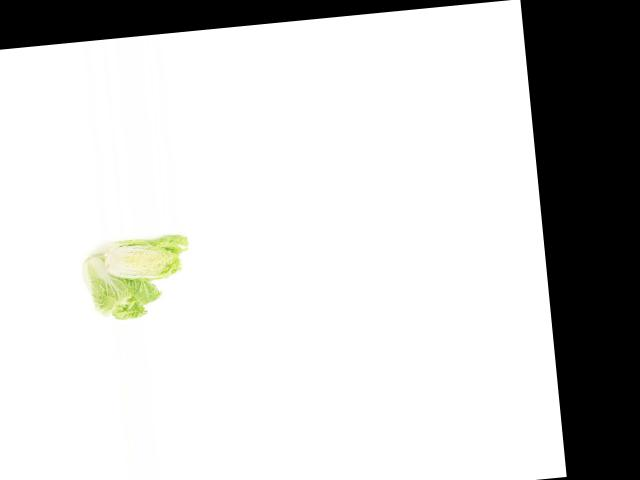lettuce: (78, 243, 168, 326)
